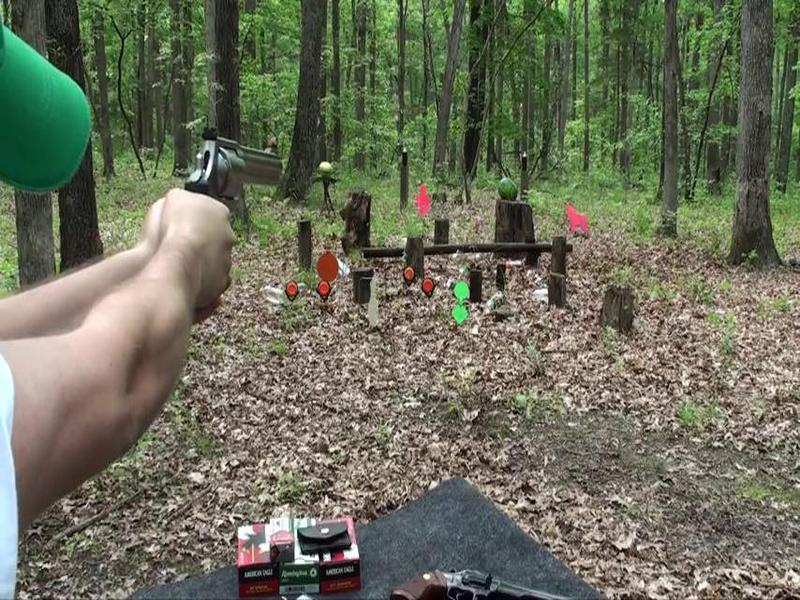Revolver: (164, 128, 300, 267)
